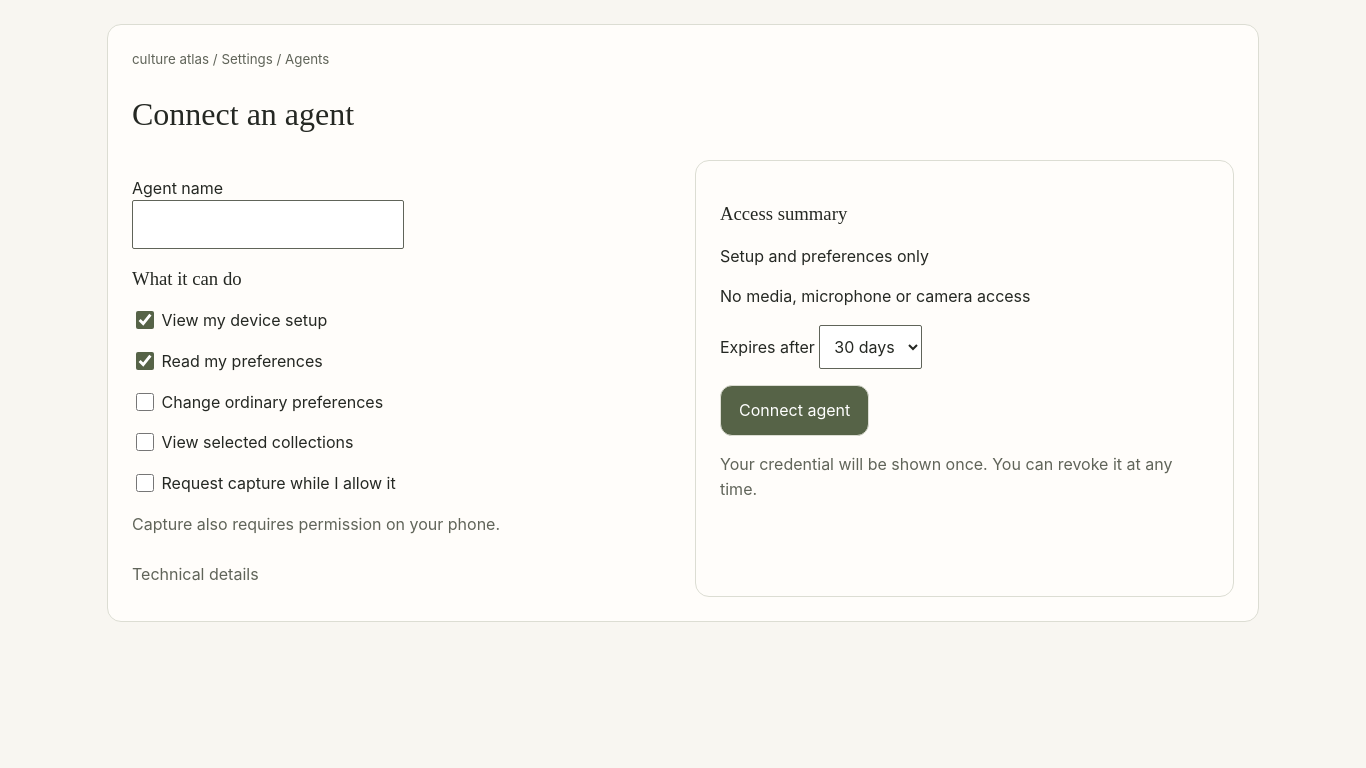
Test: agent consent interface (screen 11) › separates original download and analysis permission from preview access
Click the checkbox labelled "View selected collections" at (145, 442), box x1=136 y1=434 x2=154 y2=452
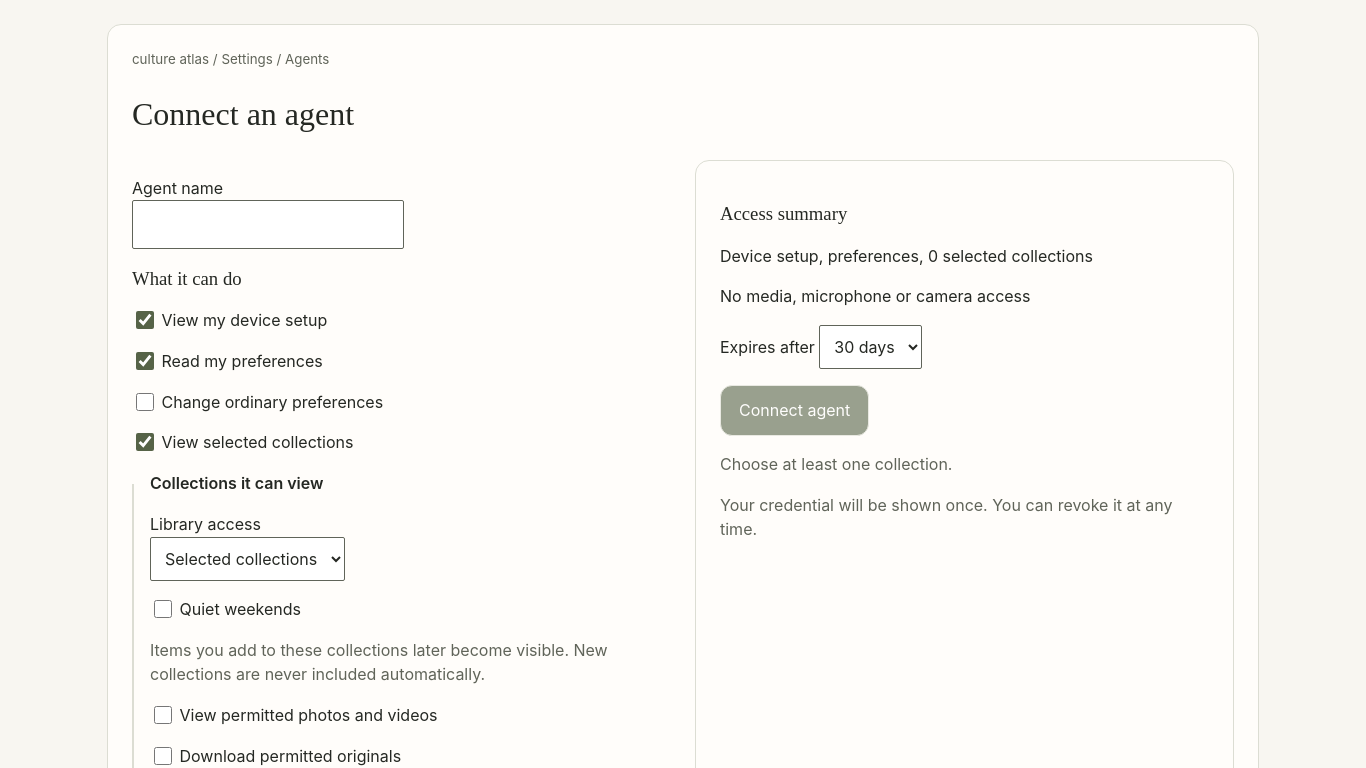
Expected: the dropdown labelled "Library access" shows "Selected collections", x1=150 y1=537 x2=345 y2=581
Expected: the checkbox labelled "Download permitted originals" is not checked, x1=154 y1=747 x2=172 y2=765
Expected: the checkbox labelled "View permitted photos and videos" is not checked, x1=154 y1=706 x2=172 y2=724
